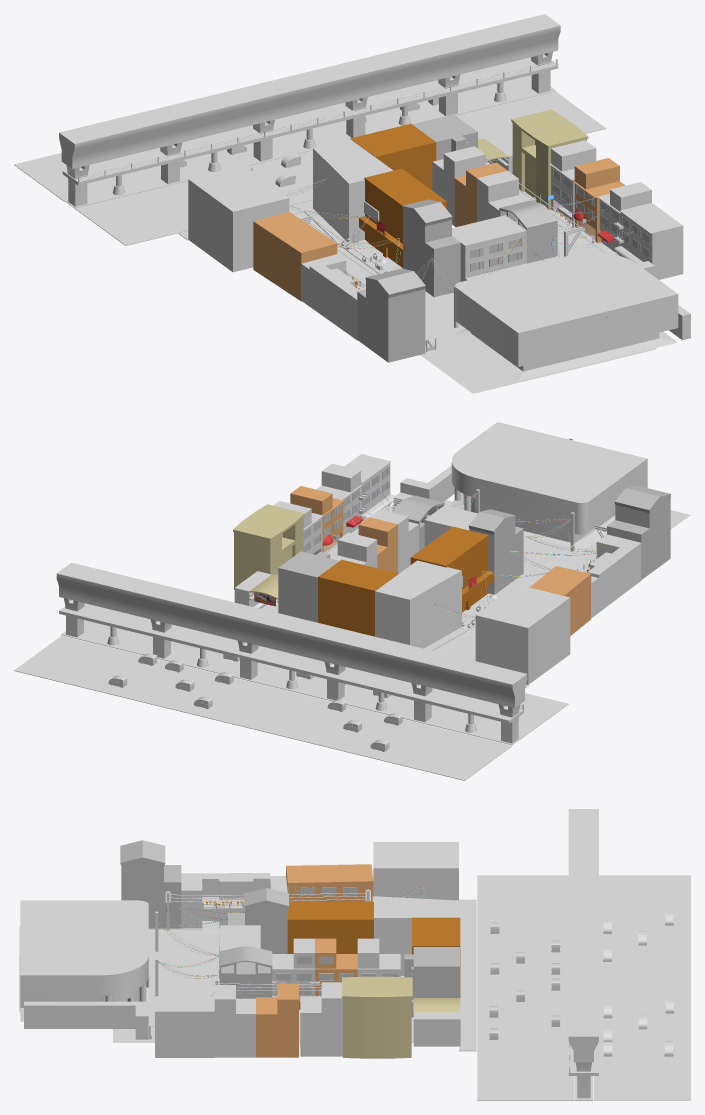
File: Bangkok2.fbx
3 views of the same model, one above another, from view 1: azimuth 30°, elevation 25°; view 2: azimuth 150°, elevation 25°; view 3: azimuth 270°, elevation 25° (orthographic). The views are drawn at different scales.
Parts seen in each view (by area): view 1: ShrimpCasino, Cube.041, Plane.011, Cube.044, Block2ndEntrance2, MainStreetStructure, Plane.012, Blcok2.006, Block2ndEntrance, Blcok2.003, Blcok2.004, BuildingNearArch (+20 smaller); view 2: Plane.012, Cube.041, ShrimpCasino, Block2ndEntrance2, Cube.044, Block2ndEntrance, Plane.011, BuildingNearArch, Block2ndEntrance2.001, Blcok2.006, MainStreetStructure, Blcok2.002 (+19 smaller); view 3: Plane.011, Plane.012, ShrimpCasino, Cube.041, BuildingNearArch, MainStreetStructure, Block2ndEntrance2, Blcok2.006, Blcok2.005, Block3.002, DividerWall, Blcok2.002 (+20 smaller).
Boxes of the visible parts, x1,y1,x2,y2 form: ShrimpCasino: (455,253,678,381); Cube.041: (59,14,560,168); Plane.011: (75,91,606,245); Cube.044: (62,57,558,185); Block2ndEntrance2: (188,165,289,272); MainStreetStructure: (294,190,656,393); Plane.012: (14,75,531,201); Blcok2.006: (357,268,425,362); Block2ndEntrance: (313,139,392,242); Blcok2.003: (402,199,460,297); Blcok2.004: (253,212,337,301); BuildingNearArch: (511,109,588,209); Plane.012: (14,635,511,780); Cube.041: (56,562,527,707); ShrimpCasino: (451,422,647,548); Block2ndEntrance2: (475,584,570,684); Cube.044: (59,603,523,723); Block2ndEntrance: (375,560,461,648); Plane.011: (84,620,568,738); BuildingNearArch: (233,504,304,589); Block2ndEntrance2.001: (318,559,398,636); Blcok2.006: (607,485,671,579); MainStreetStructure: (261,500,690,661); Blcok2.002: (410,526,494,612); Plane.011: (477,875,574,1100); Plane.012: (593,875,690,1100); ShrimpCasino: (20,900,148,1021); Cube.041: (568,809,598,1062); BuildingNearArch: (342,976,412,1058); MainStreetStructure: (19,926,413,1043); Block2ndEntrance2: (373,842,458,900); Blcok2.006: (120,840,181,928); Blcok2.005: (181,873,287,928); Block3.002: (155,996,214,1057); DividerWall: (24,1001,148,1039); Blcok2.002: (287,902,373,953).
Size of the model in its own units: 15827 by 12587 by 1876.
